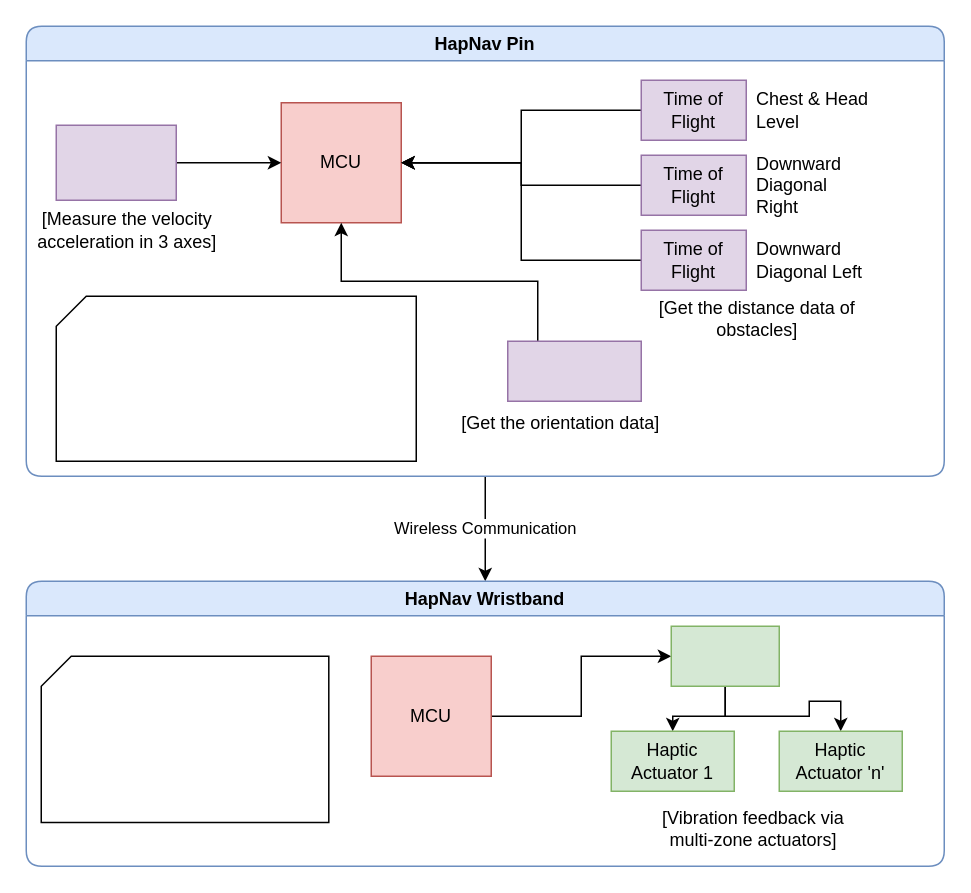
Some shapes in this 971 by 893 pixel diagram are drawn without their labels. Each missing label, with the box of its shape:
Do: direction encoding intensity encoding pattern encoding: (40, 655, 329, 822)
Inertial Measurement Unit: (55, 124, 176, 200)
Magnetometer: (506, 340, 641, 401)
Processing: spacial mapping danger zone classification obstacle detection: (55, 295, 416, 461)
Vibration Driver: (670, 625, 779, 686)
